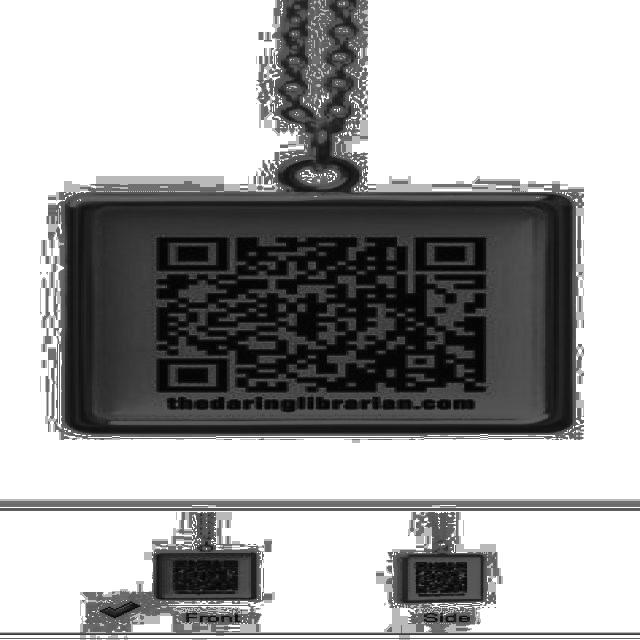qr_code: (157, 237, 484, 392), (173, 561, 235, 589), (416, 562, 464, 591)
